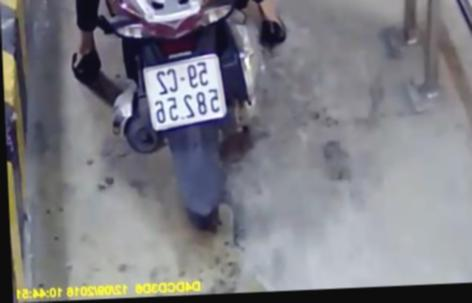License_Plate: (140, 52, 233, 142)
